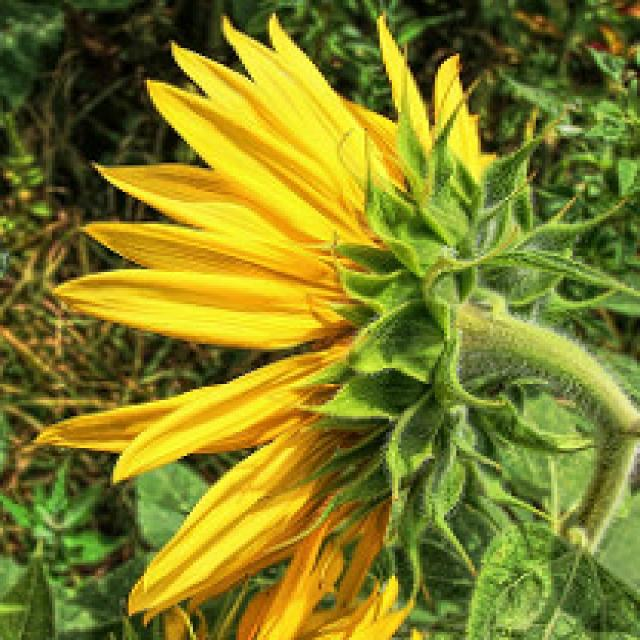sunflower: (24, 8, 640, 640)
